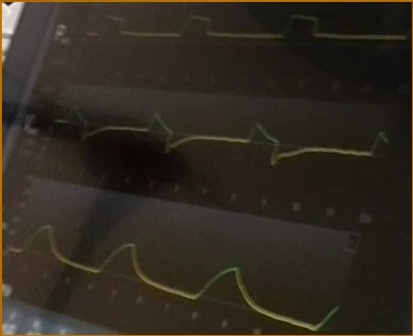Normal Flow: (58, 95, 388, 167)
Normal Volume: (10, 223, 340, 329)
